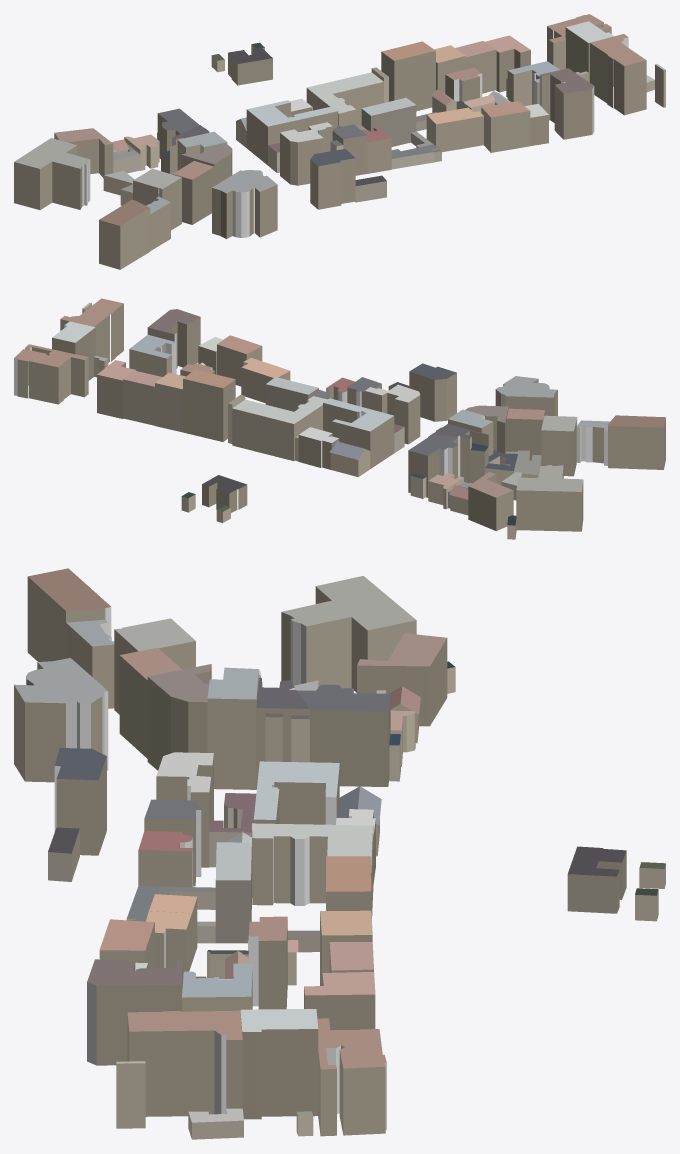
3 views of the same model, one above another, from view 1: azimuth 30°, elevation 25°; view 2: azimuth 150°, elevation 25°; view 3: azimuth 270°, elevation 25° (orthographic). The views are drawn at different scales.
Parts seen in each view (by area): view 1: tuile; view 2: tuile; view 3: tuile.
Boxes of the visible parts, <box> form: tuile: <box>14,14,665,269</box>; tuile: <box>14,298,665,539</box>; tuile: <box>14,568,665,1139</box>.
Bounding box in the file's own units: 259 × 25.48 × 142.
